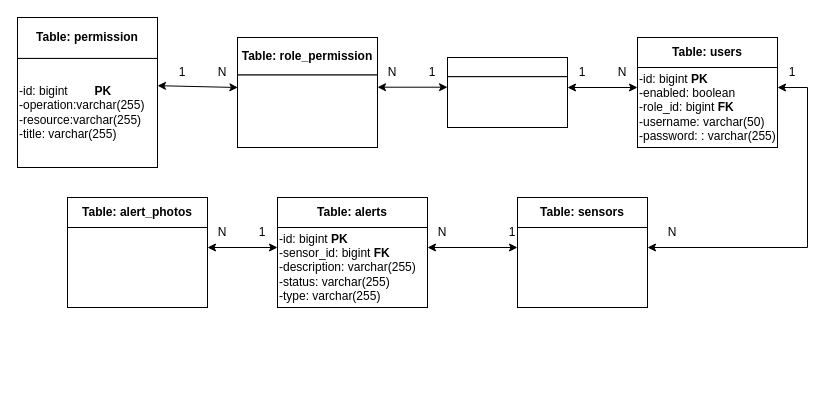
Image size: 834x395. Some labels were removed from this diagram. The box of each missing label's shape, as (x1, y1, x2, y2) in pixels:
-alert_id: bigint FK -photo_url : varchar(255): (66, 226, 208, 308)
-id: bigint PK -title: varchar(255): (446, 76, 568, 128)
-id: bigint PK -user_id: bigint FK -location: varchar(255) -model : varchar(255): (516, 226, 648, 308)
-permission_id: bigint PK -role_id: bigint PK: (236, 74, 378, 148)
Table: role: (446, 56, 568, 77)
